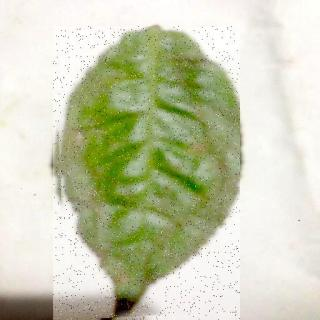Red Leaf Spot: (54, 27, 241, 320)
